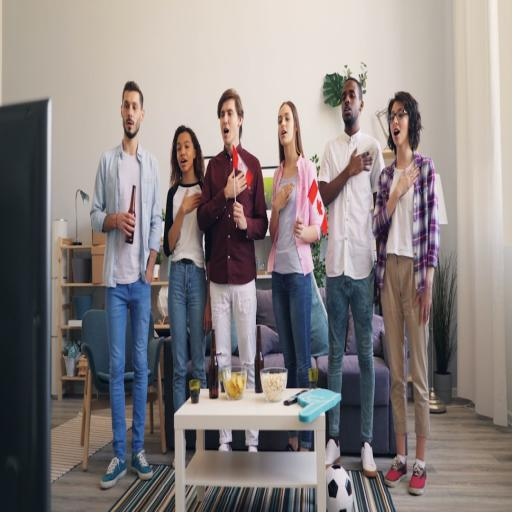face: (340, 82, 360, 126), (389, 105, 409, 145), (218, 102, 236, 144), (122, 96, 140, 137), (176, 134, 194, 173), (276, 104, 293, 145)
